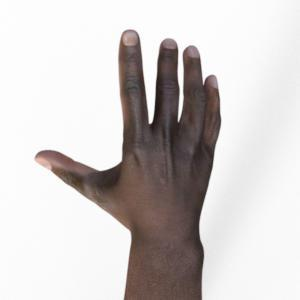paper: (36, 30, 220, 300)
